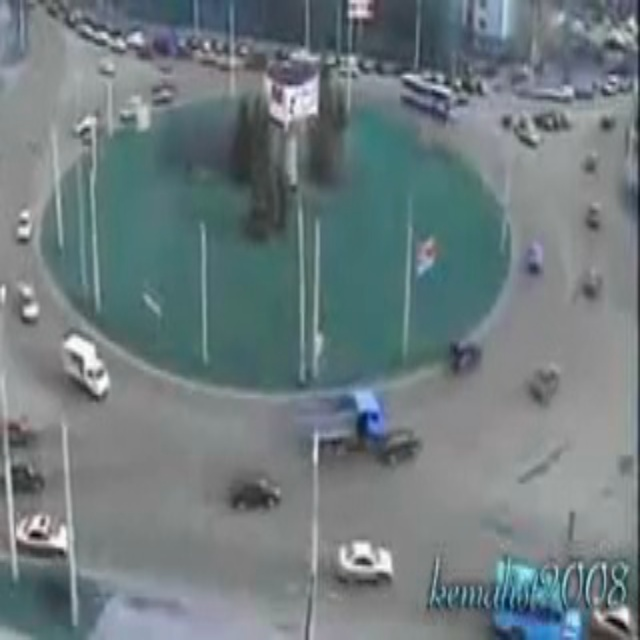acc: (293, 399, 419, 468)
